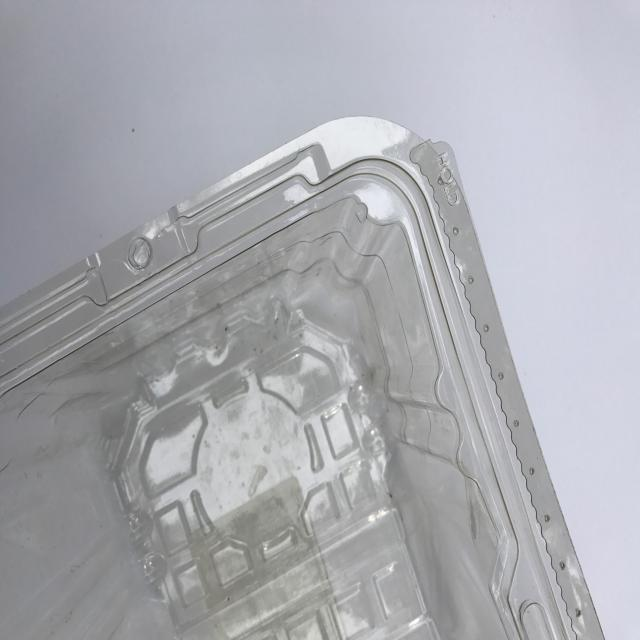plastic: (1, 115, 606, 639)
